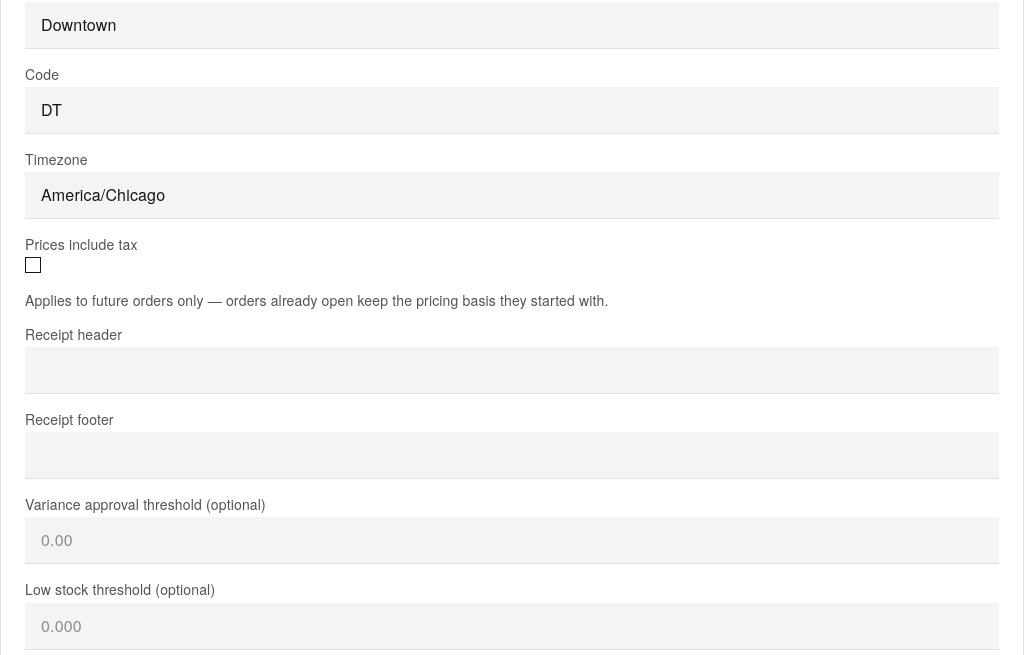
it: LocationEditor › blocks save on a non-numeric variance threshold
Type "abc" into the field labelled "Variance approval threshold (optional)".
click(512, 541); type("abc")  # box [25, 518, 999, 564]
(page scrolled)
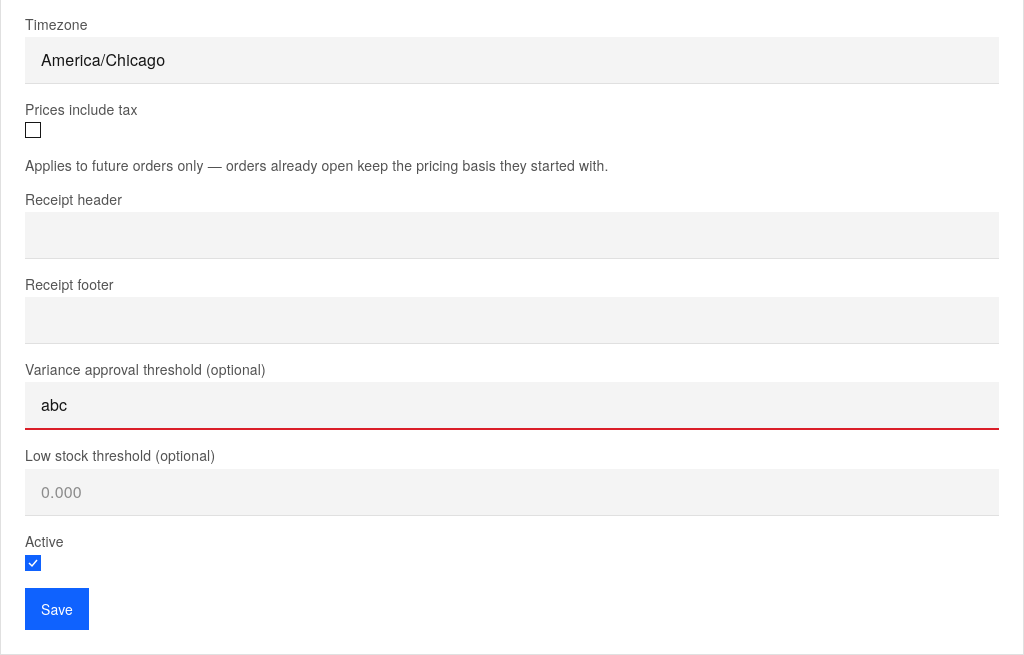
Click the button "Save".
click(57, 609)  # box [25, 588, 89, 630]
(page scrolled)
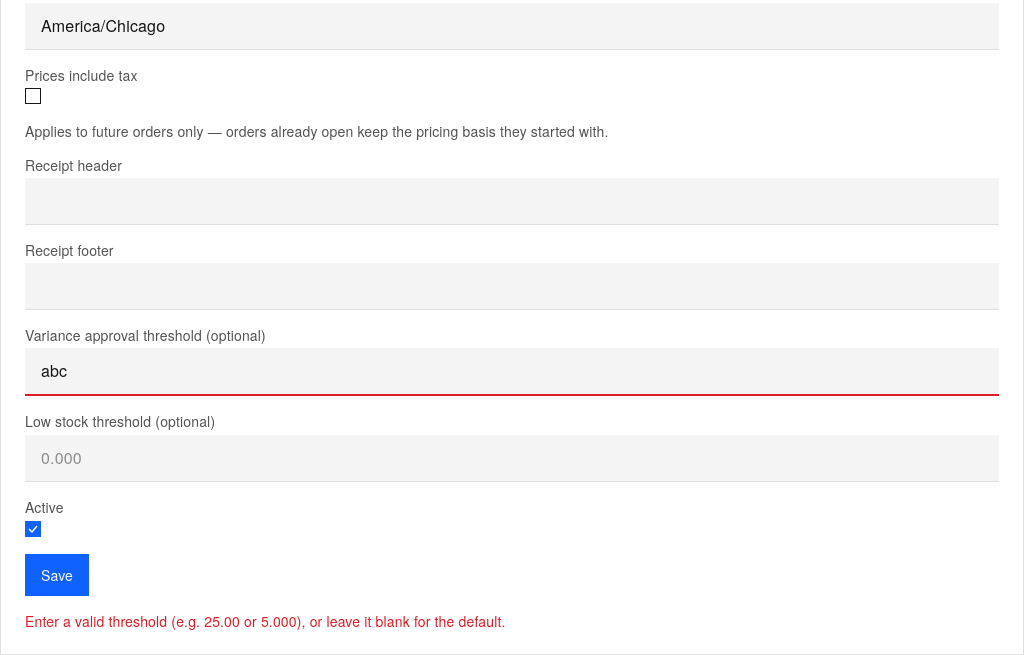
Expected: the text "Enter a valid threshold" is shown, [25, 611, 506, 631]
